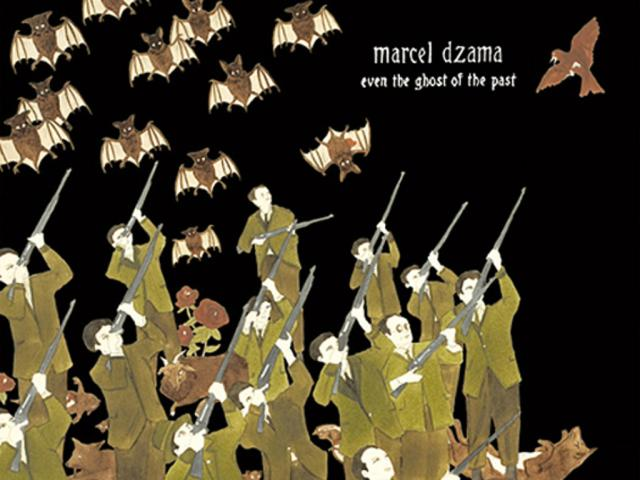Bird: (0, 0, 373, 202), (538, 15, 604, 94)
